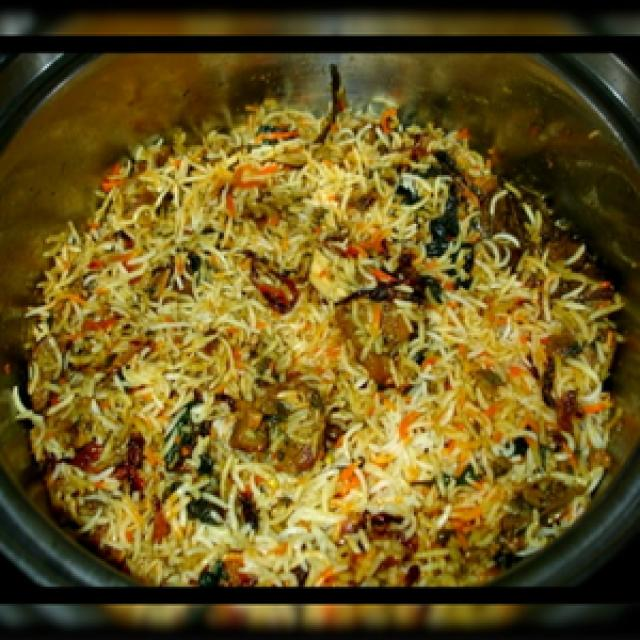chicken biriyani: (2, 76, 640, 592)
